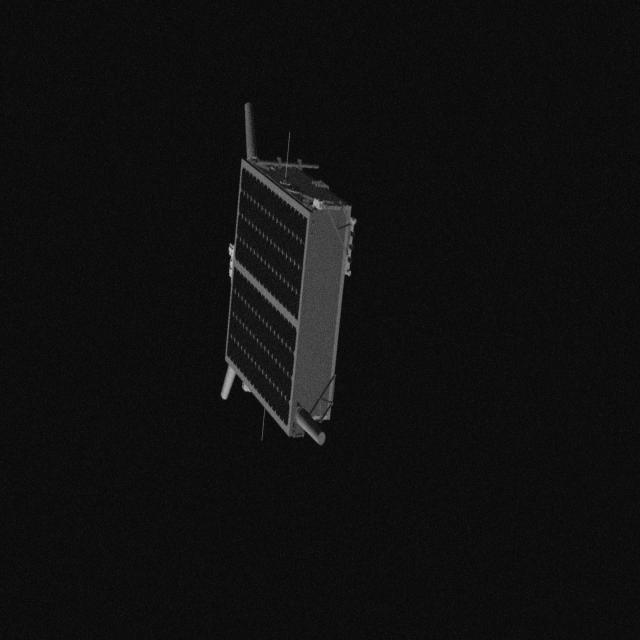medium_debris: (212, 96, 362, 458)
